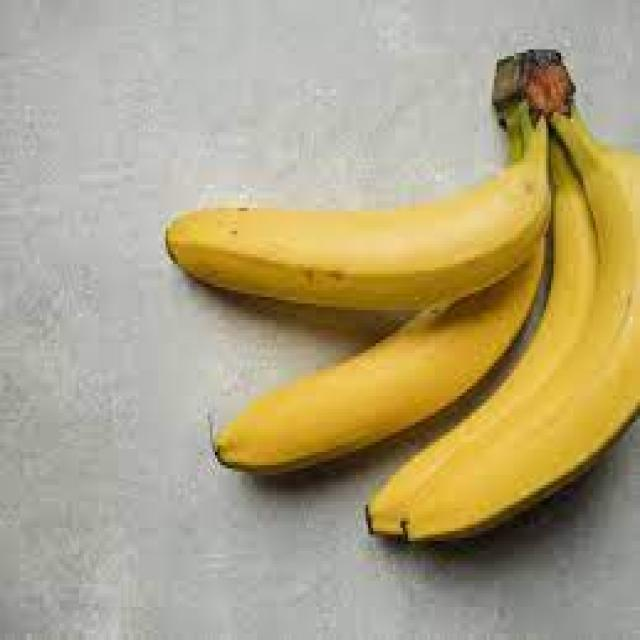banana: (163, 47, 638, 544)
